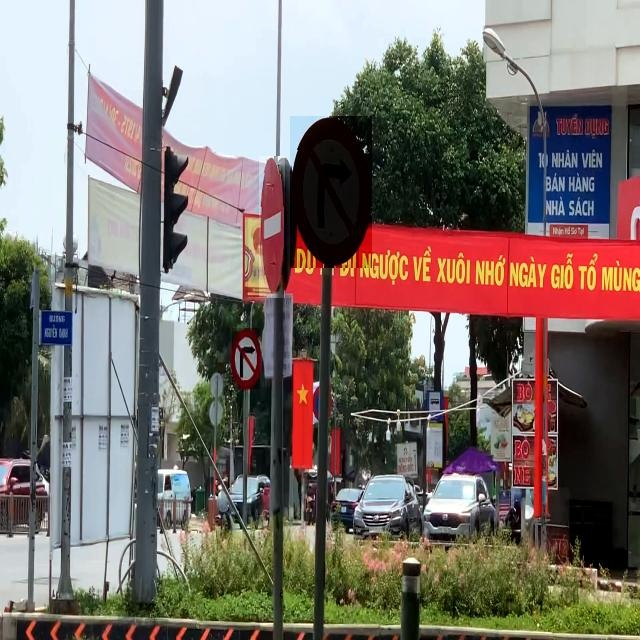bien_cam: (290, 116, 372, 268), (260, 156, 286, 298), (232, 328, 260, 389)
